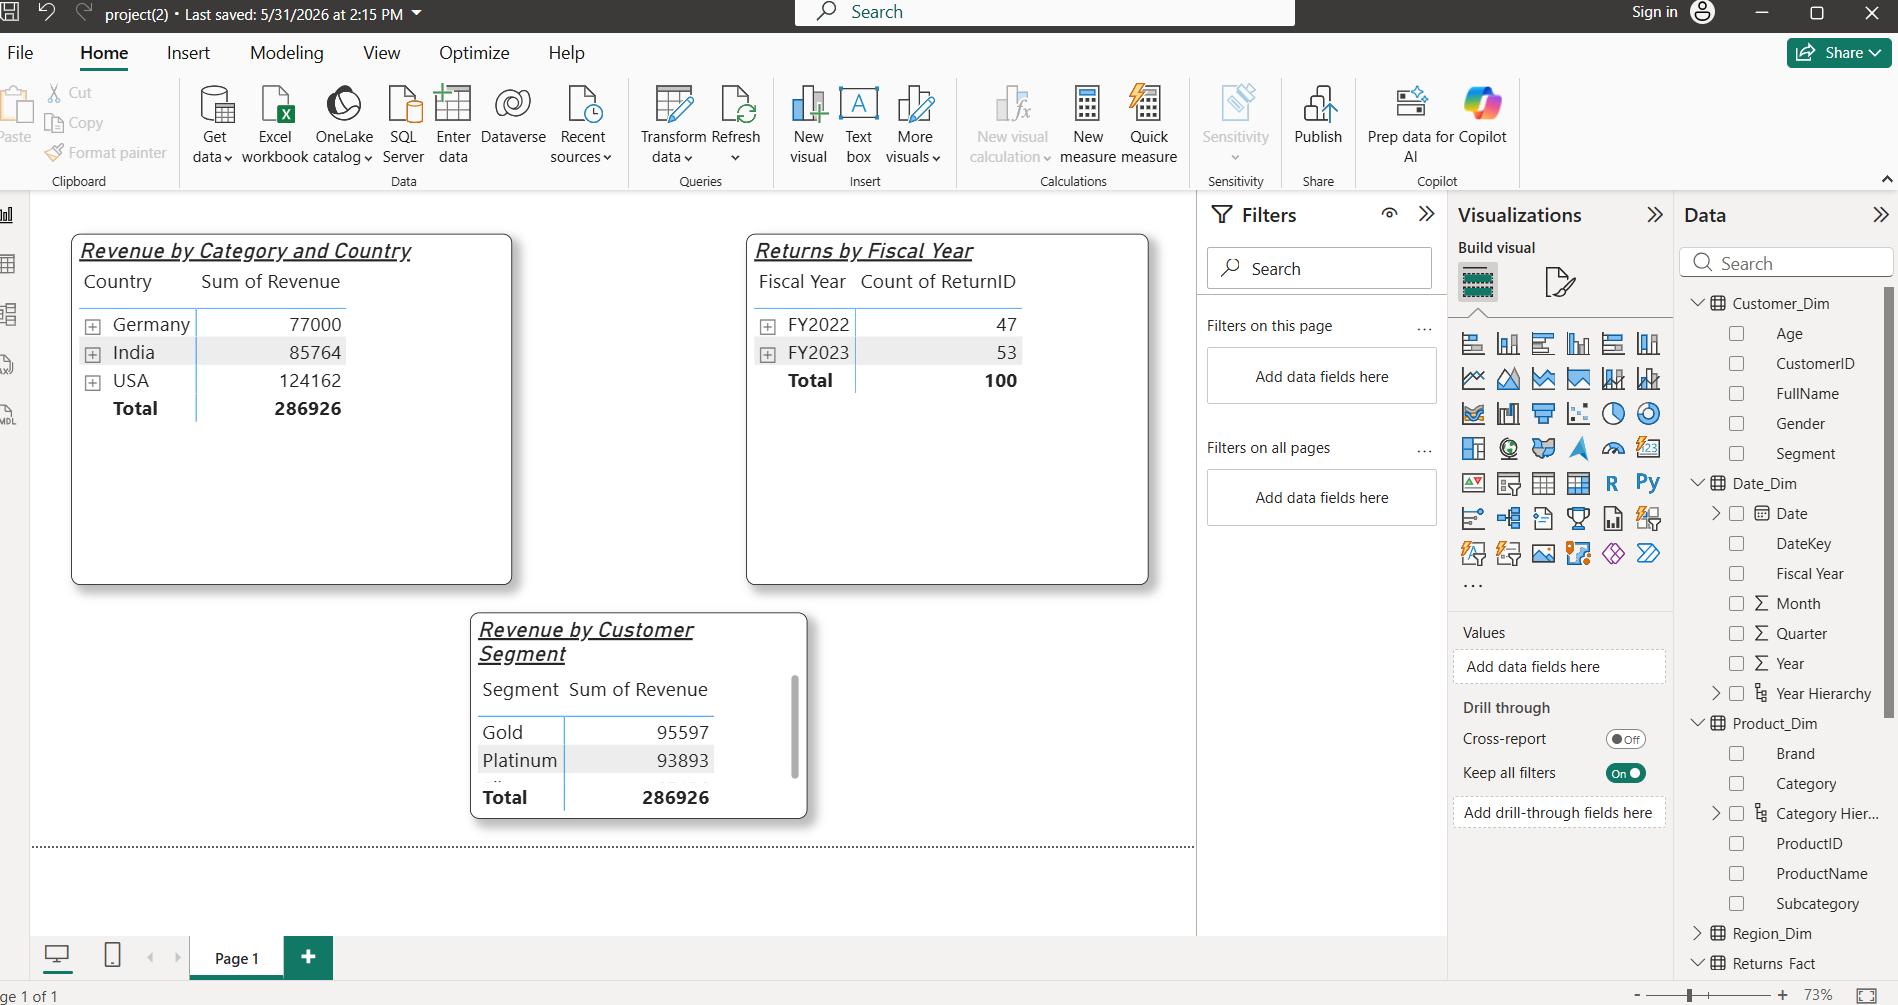

The page's visual inventory and layout, read from the dashboard file:
{"tool":"powerbi","page":{"name":"Page 1","canvas":[1280,720],"ordinal":0},"visuals":[{"type":"pivotTable","title":"Revenue by Category and Country","fields":{"Rows":["Region_Dim.Country","Product_Dim.Category"],"Values":["Sum(Sales_Fact.Revenue)"]},"box":[42.5,24.7,484.4,385.6],"z":0},{"type":"pivotTable","title":"Returns by Fiscal Year","fields":{"Rows":["Date_Dim.Fiscal Year","Returns_Fact.Reason"],"Values":["CountNonNull(Returns_Fact.ReturnID)"]},"box":[789,26.1,441.9,385.6],"z":1},{"type":"pivotTable","title":"Revenue by Customer Segment","fields":{"Rows":["Customer_Dim.Segment"],"Values":["Sum(Sales_Fact.Revenue)"]},"box":[483,463.8,370.5,226.4],"z":2}]}

Visuals, with their boxes on the page's 1280x720 design canvas (x1, y1, x2, y2). These are canvas units, not pixel positions in the 1898x1005 screenshot, which may show the page scaled, cropped or inside an application window:
"Revenue by Category and Country" pivotTable: bbox=[42, 25, 527, 410]
"Returns by Fiscal Year" pivotTable: bbox=[789, 26, 1231, 412]
"Revenue by Customer Segment" pivotTable: bbox=[483, 464, 854, 690]
